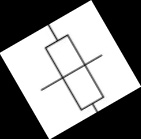t7: (35, 24, 104, 116)
